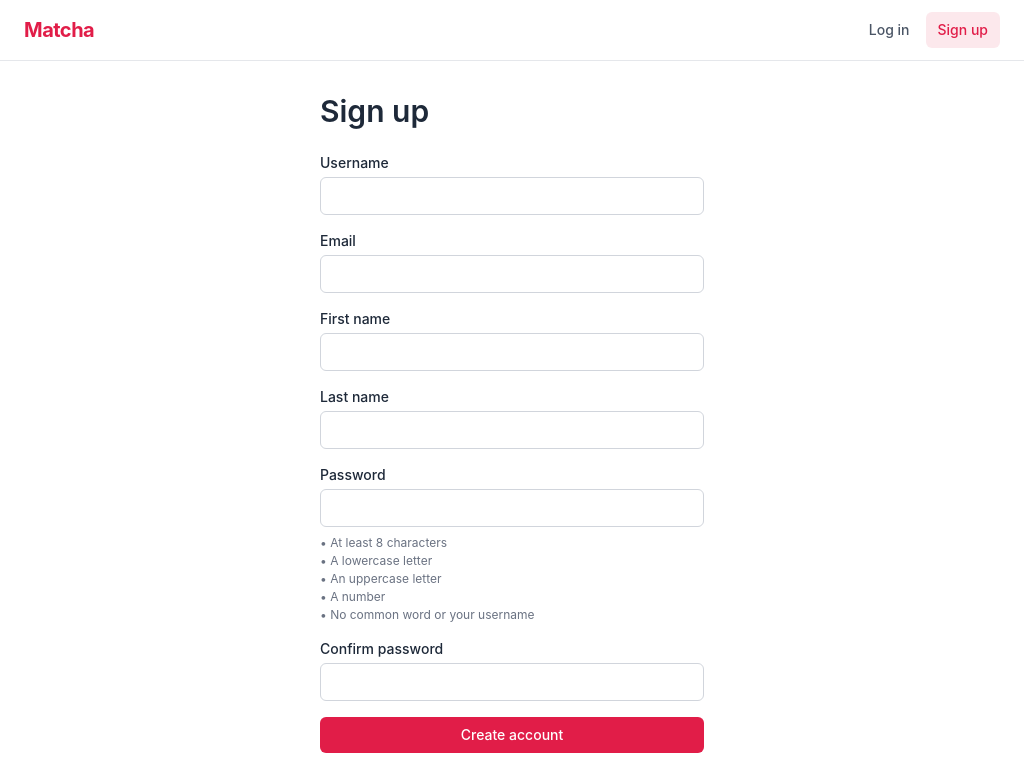
Test: register form › rejects a weak password and keeps what the user typed
In the field labelled "Username": (512, 196) left=320, top=177, right=704, bottom=215, type "alice"
In the field labelled "Email": (512, 274) left=320, top=255, right=704, bottom=293, type "alice@example.com"
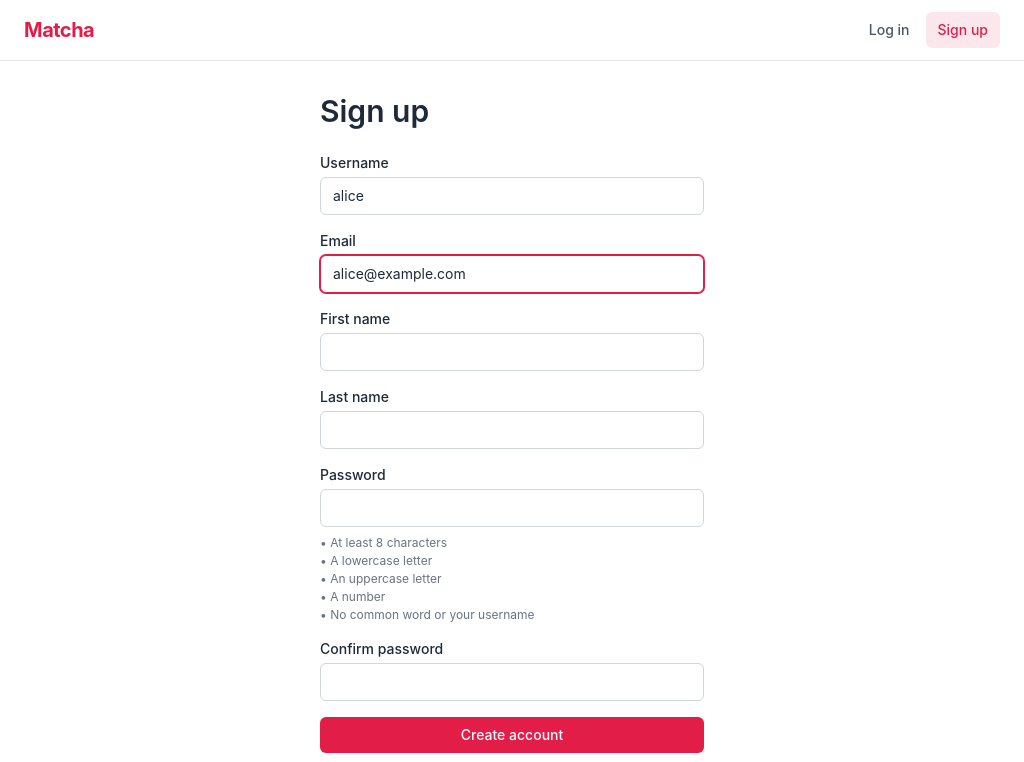
In the field labelled "First name": (512, 352) left=320, top=333, right=704, bottom=371, type "Alice"
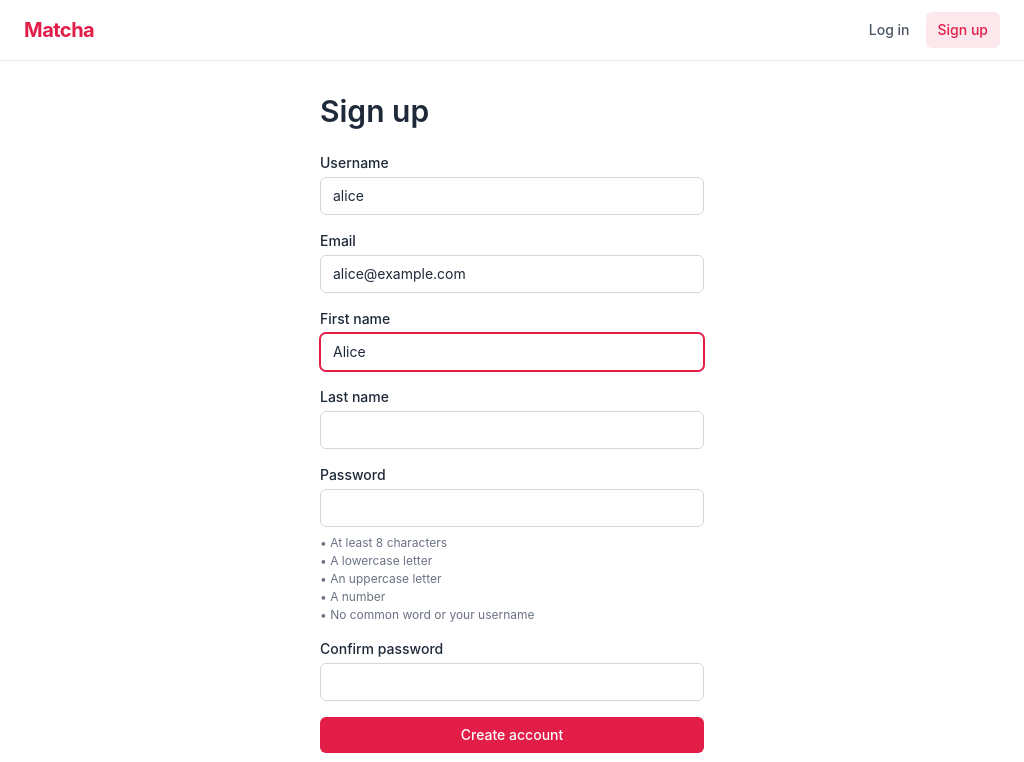
In the field labelled "Last name": (512, 430) left=320, top=411, right=704, bottom=449, type "Liddell"
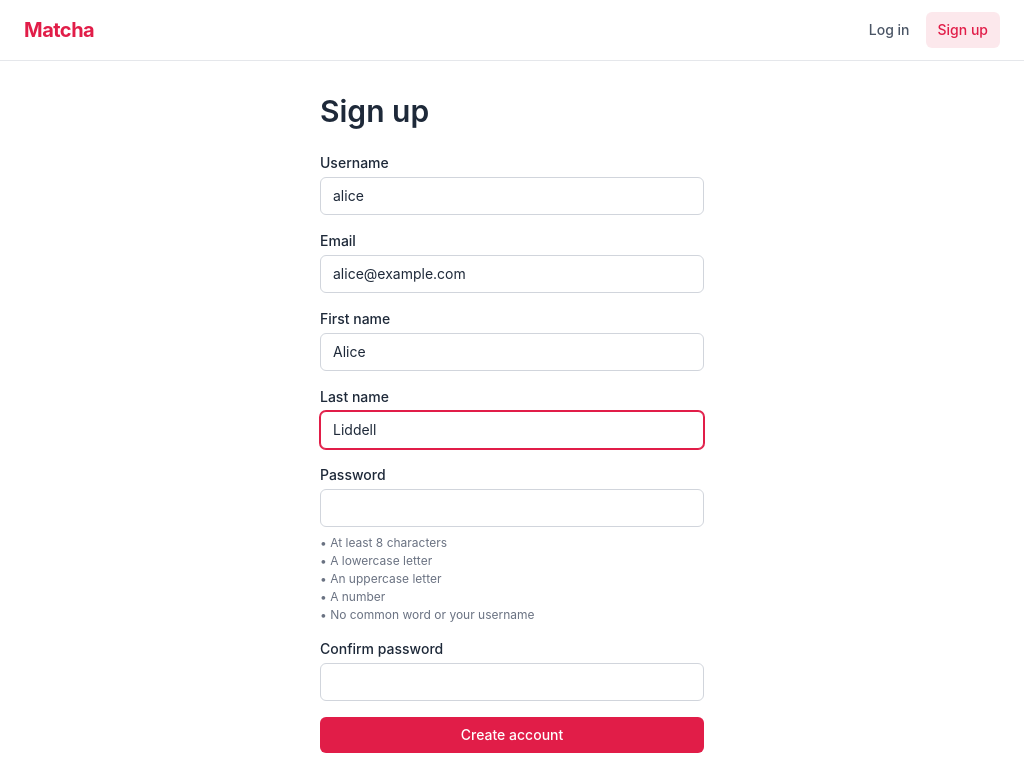
In the password field labelled "Password": (512, 508) left=320, top=489, right=704, bottom=527, type "weak"
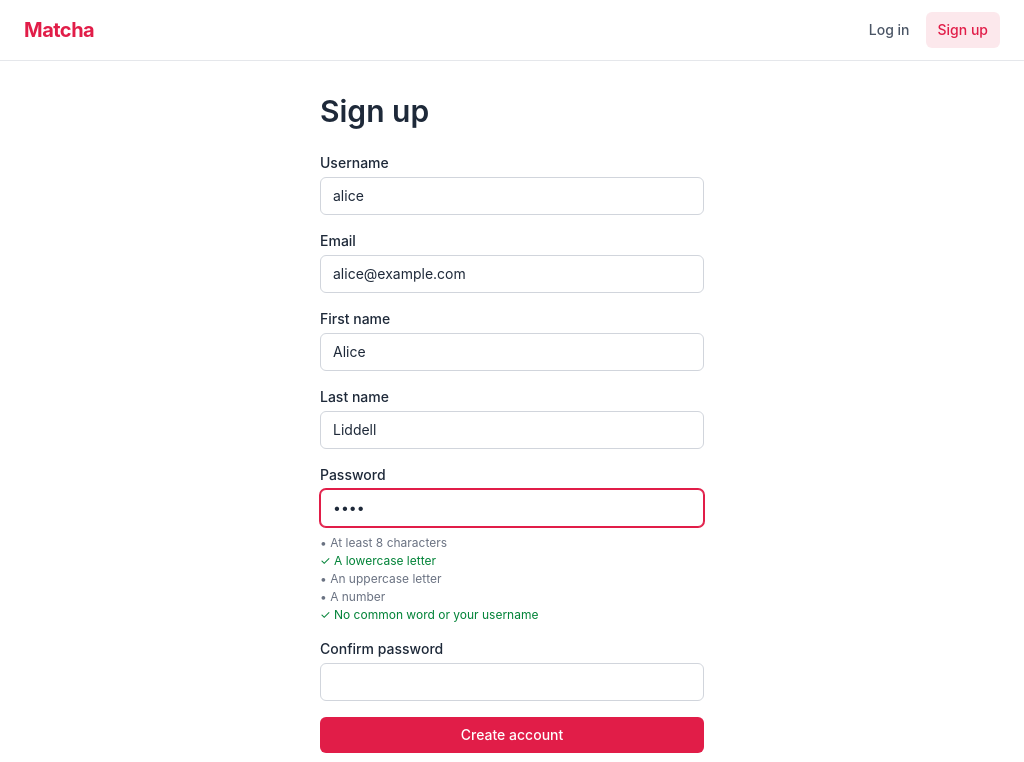
In the password field labelled "Confirm password": (512, 682) left=320, top=663, right=704, bottom=701, type "weak"
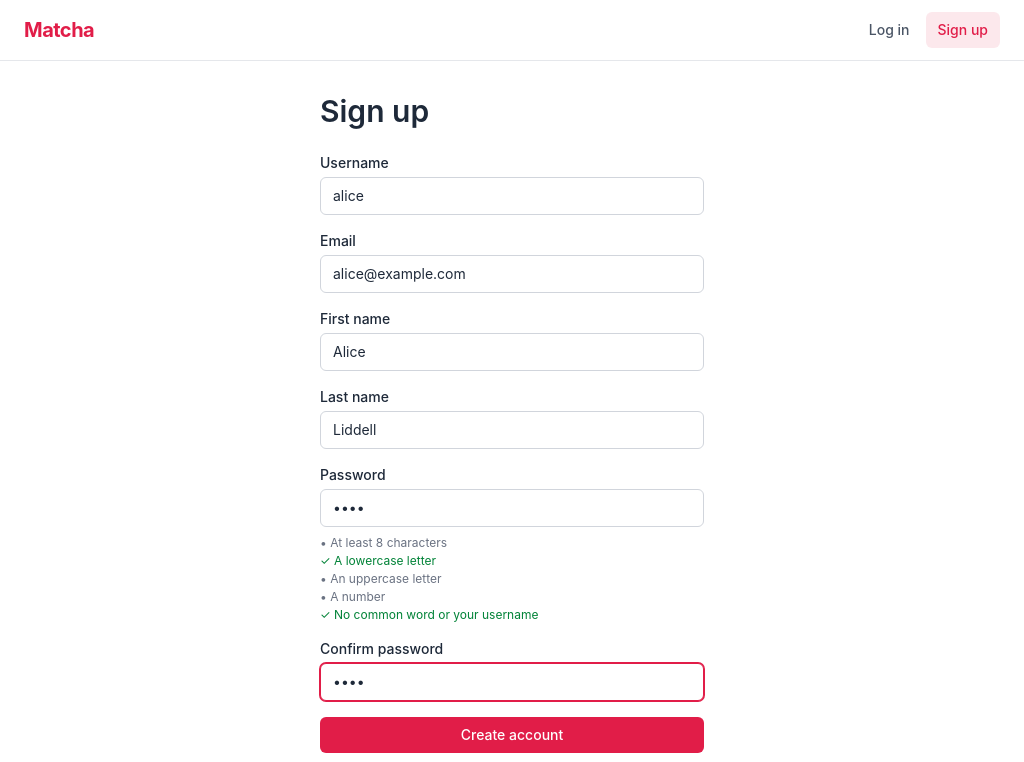
Click the button "Create account": click(512, 735) left=320, top=717, right=704, bottom=753
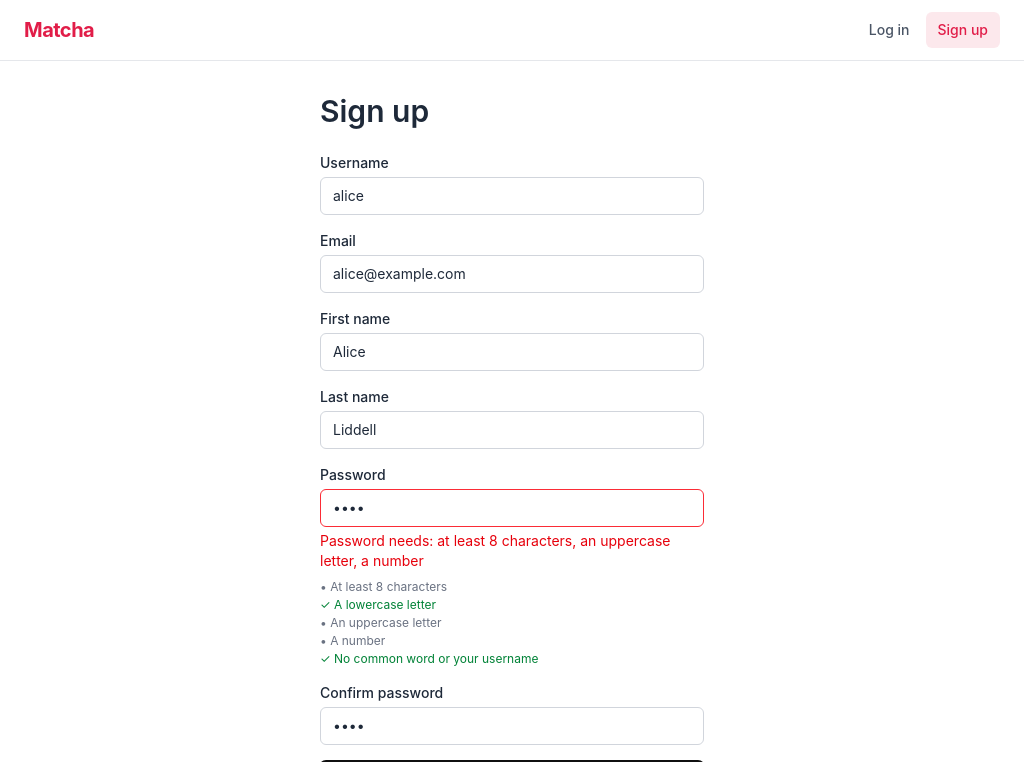
Check: the text "Password needs:" is shown, box left=320, top=532, right=670, bottom=569
